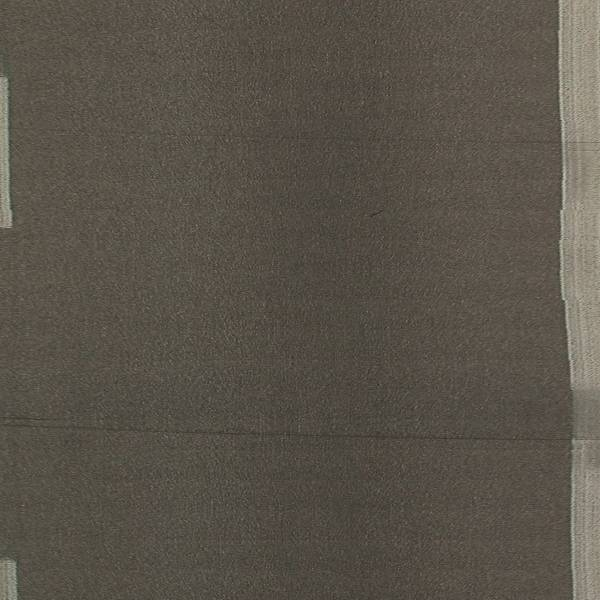road_damage: (9, 422, 586, 450)
